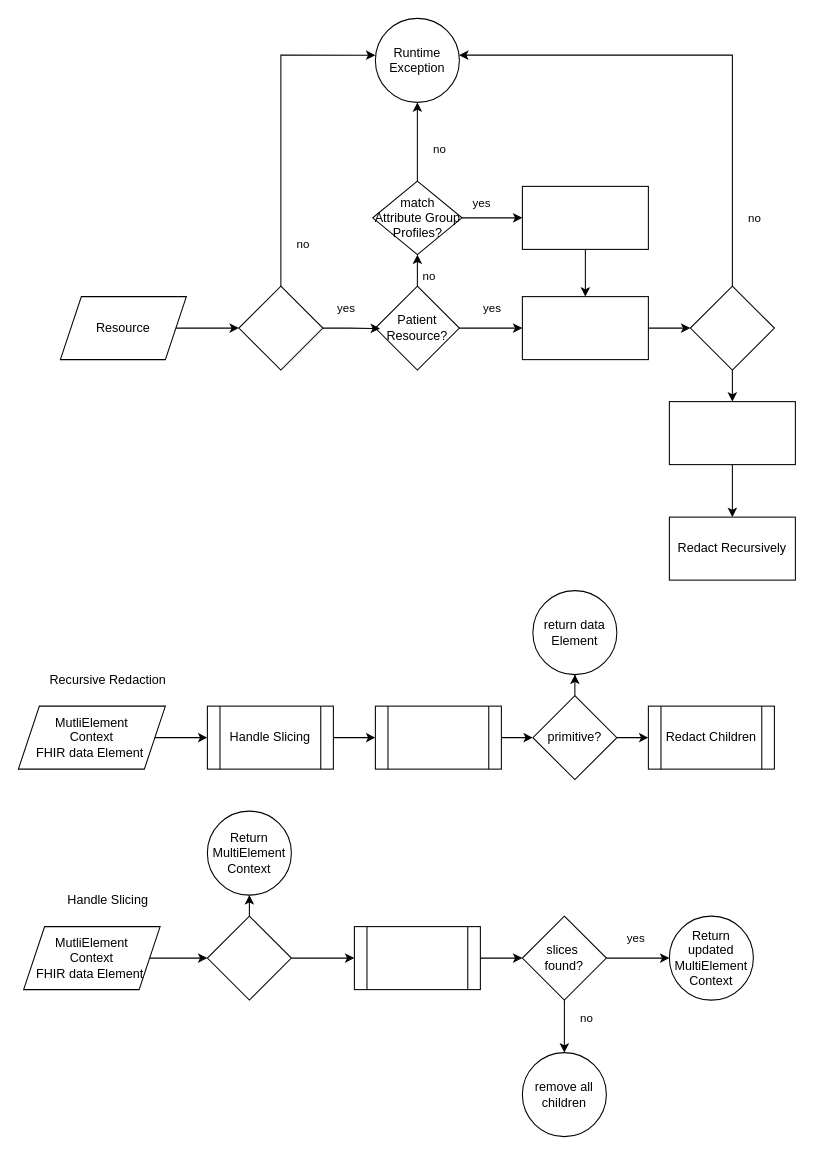
Image size: 814x1155. Some labels were removed from this diagram. The shapes that lost their labels are listed below. From the top down, each one's centre as x and y in pixels, then its label:
[584,217]: Remove unknwon Profiles from Resource
[280,327]: Resource has meta?
[584,328]: load applicable Struture Defintions
[731,327]: structure Definitions?
[731,433]: initiate MultiElementContext
[437,737]: redactExtensions
[248,957]: Extension or no Slicing?
[416,958]: resolveSlices for each Element Context
